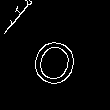O_N: (27, 24, 83, 86)
